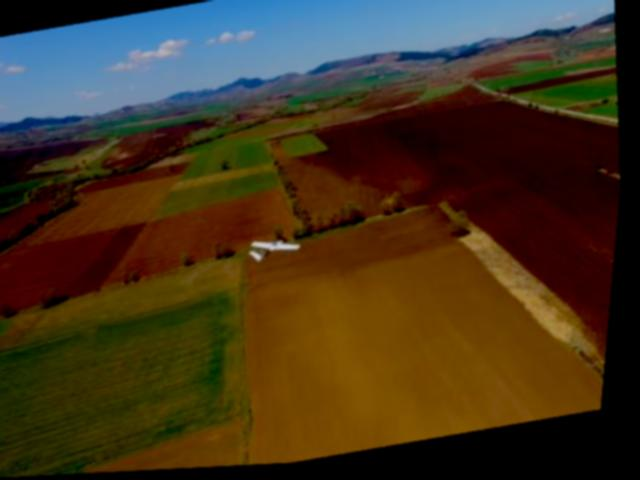uav: (245, 227, 310, 274)
